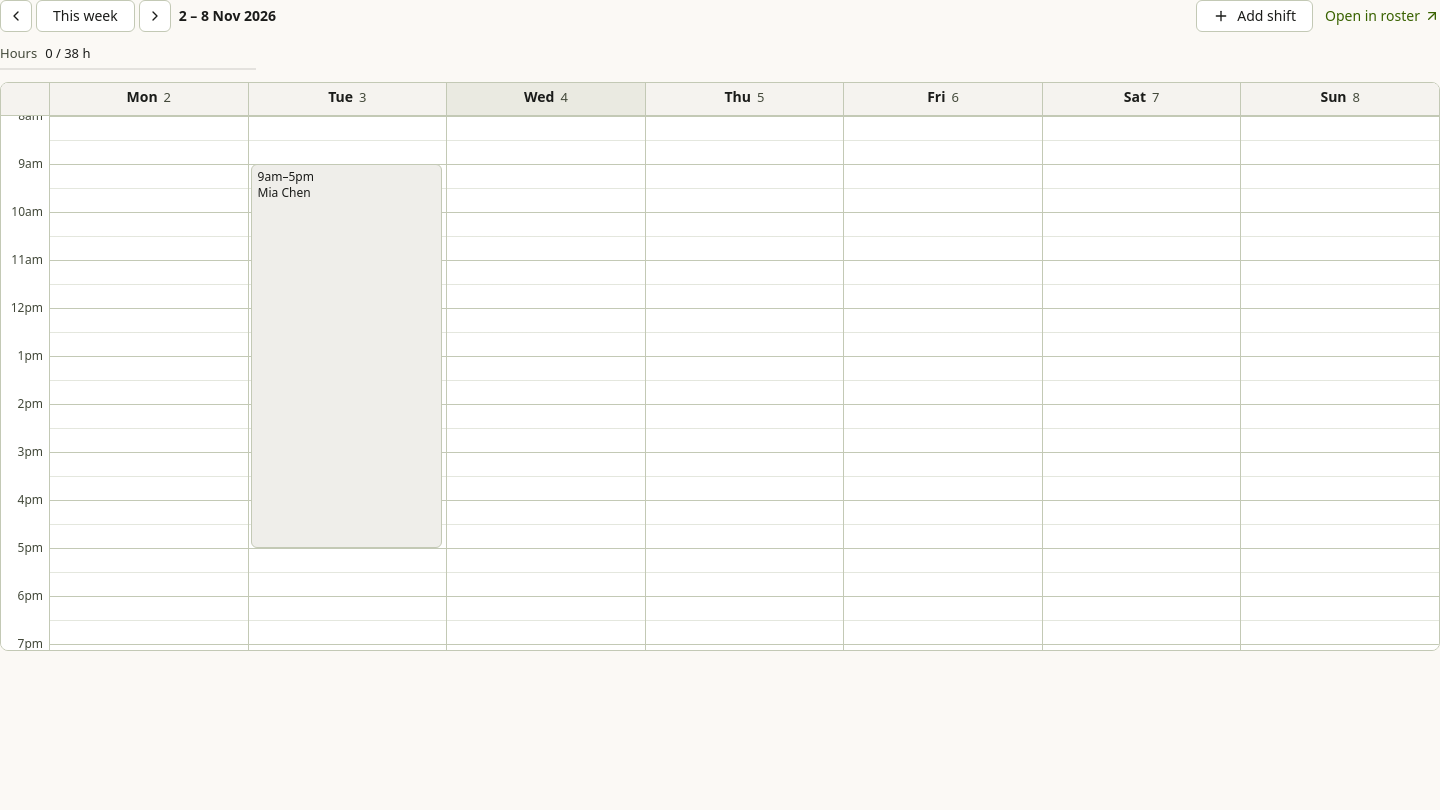
PersonWeek: the time grid › Add shift opens New shift for today in the shown week, else Monday
(page scrolled)
Expected: the link "Mia Chen" is shown, [258,184,311,200]
Step 1. Click the button "Add shift" → point(1255, 16), box [1196,0,1313,32]
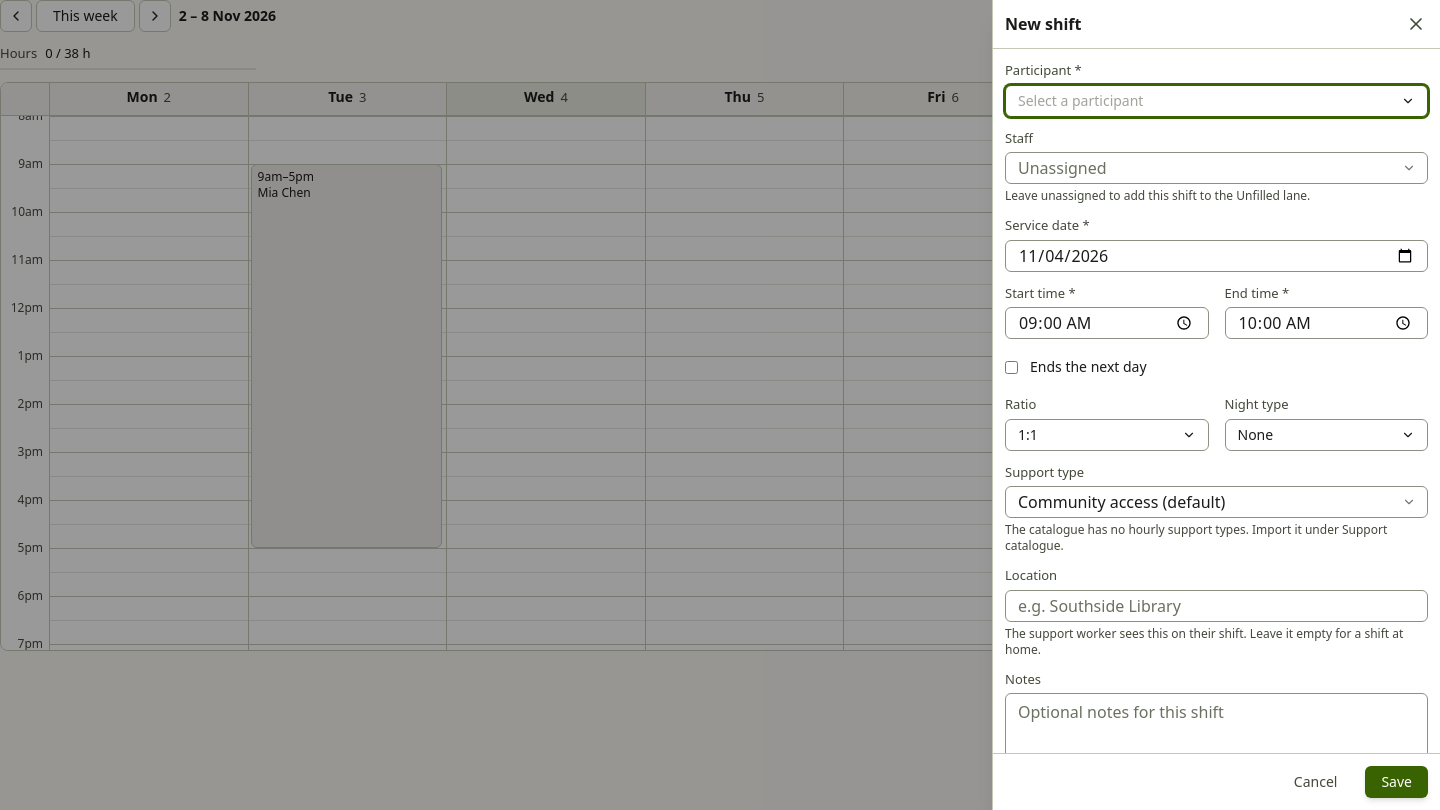
Expected: the dialog "New shift" is shown, [992,0,1439,809]
Expected: the date field labelled "Service date *" holds "2026-11-04", [1005,240,1428,272]
Expected: the time field labelled "Start time *" holds "09:00", [1005,307,1208,339]
Step 2. Press Escape
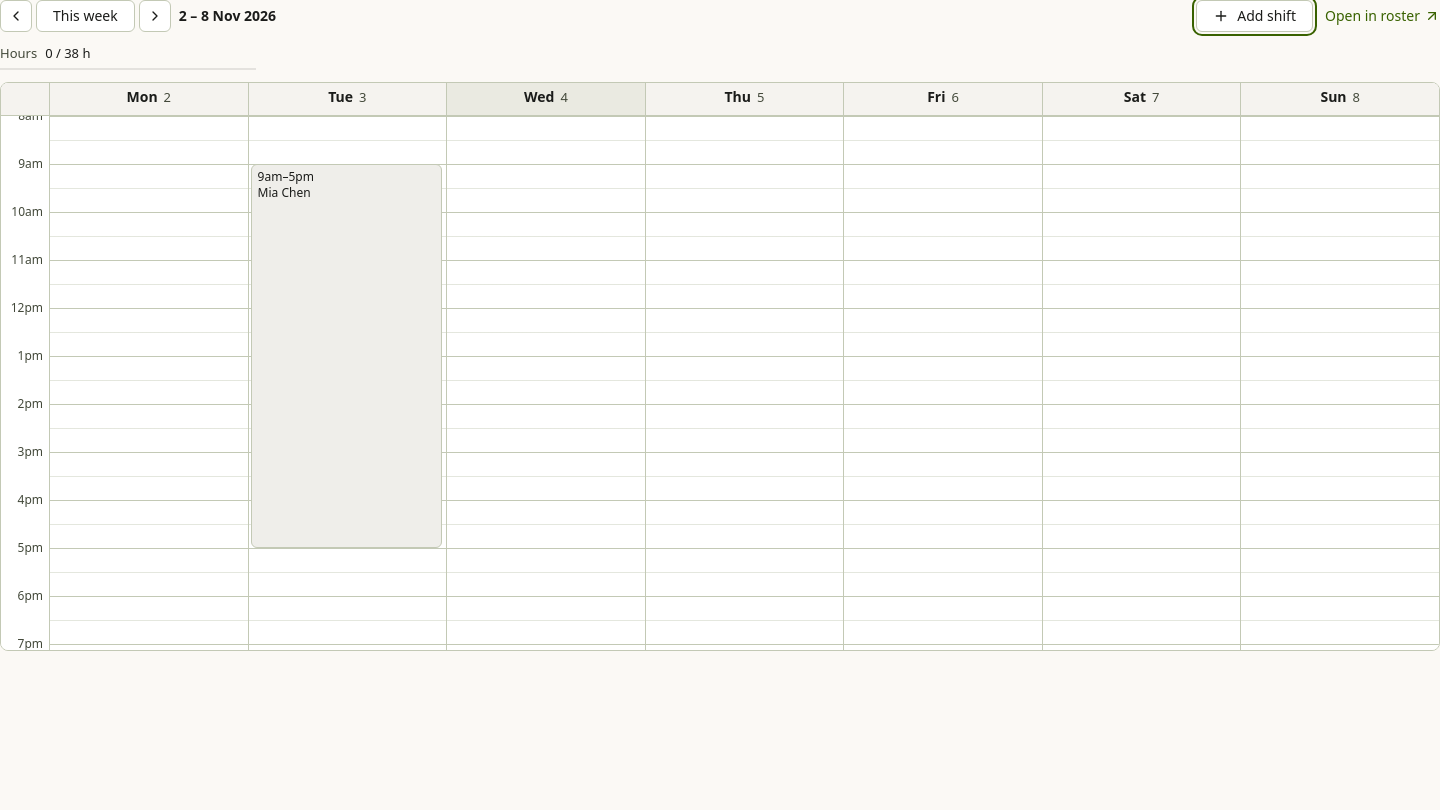
Expected: the dialog is gone
Step 3. Click the button named "Next week" → point(155, 16), box [139,0,171,32]
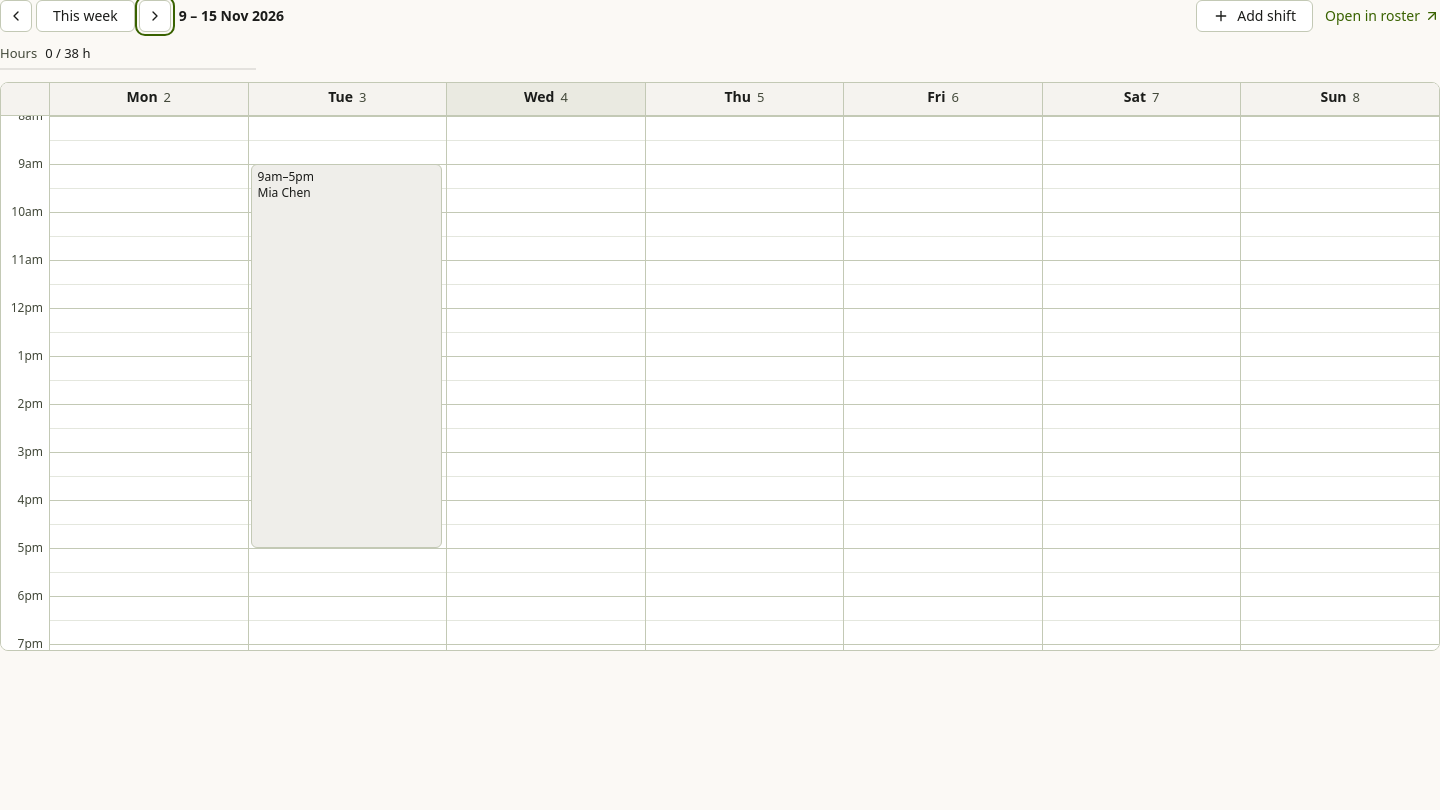
Step 4. Click the button "Add shift" → point(1255, 16), box [1196,0,1313,32]
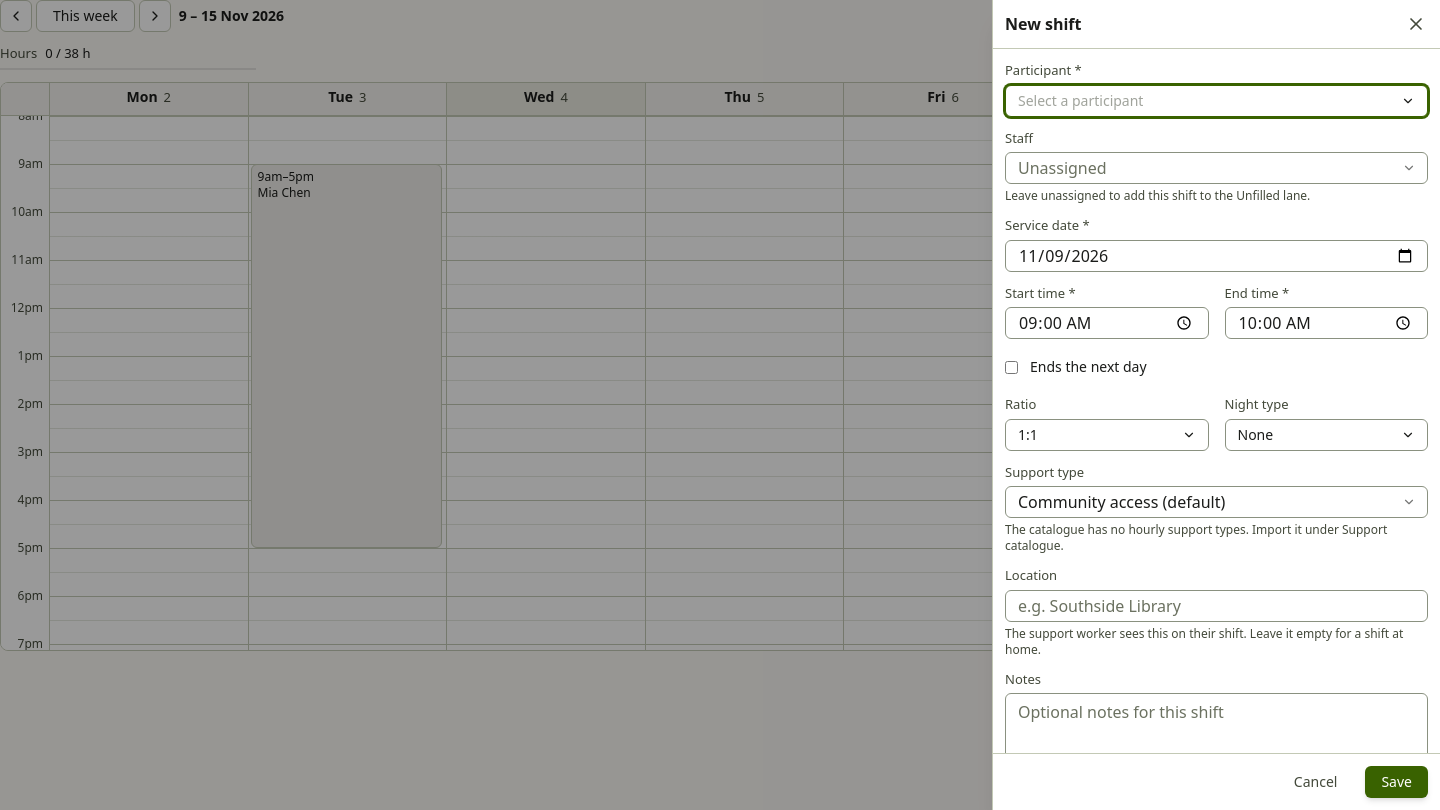
Expected: the dialog "New shift" is shown, [992,0,1439,809]
Expected: the date field labelled "Service date *" holds "2026-11-09", [1005,240,1428,272]
